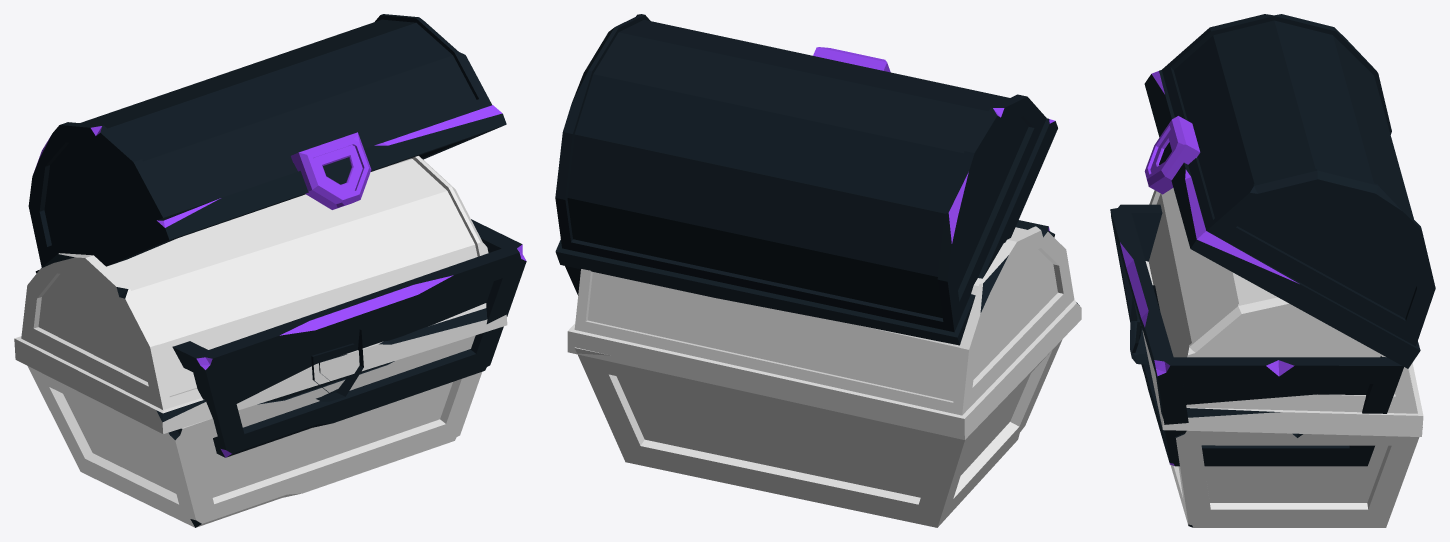
The model's file is real_treasure.glb.
3 renders of one model, left to right at view 1: azimuth 30°, elevation 25°; view 2: azimuth 150°, elevation 25°; view 3: azimuth 270°, elevation 25°, orthographic. The views are drawn at different scales.
Parts seen in each view (by area): view 1: Plane.001, ChestHalfOpen; view 2: ChestHalfOpen, Plane.001; view 3: ChestHalfOpen, Plane.001.
Boxes of the visible parts, x1,y1,x2,y2 form: Plane.001: [14, 156, 507, 527]; ChestHalfOpen: [28, 14, 526, 457]; ChestHalfOpen: [555, 14, 1057, 345]; Plane.001: [567, 226, 1081, 527]; ChestHalfOpen: [1110, 14, 1435, 466]; Plane.001: [1130, 188, 1423, 527].
Bounding box in the file's own units: 4.95 × 4.59 × 3.49.
Materials: 3 (2 with a texture image).
